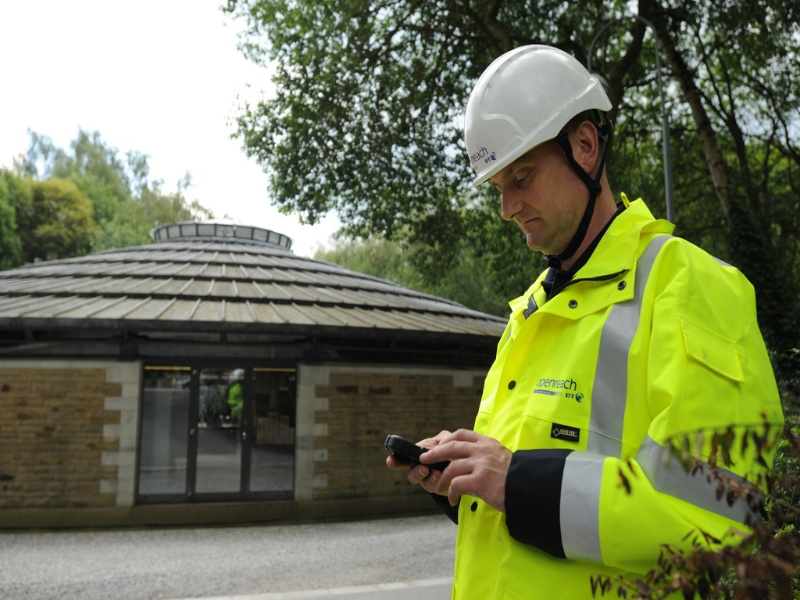Baret: (462, 44, 615, 178)
